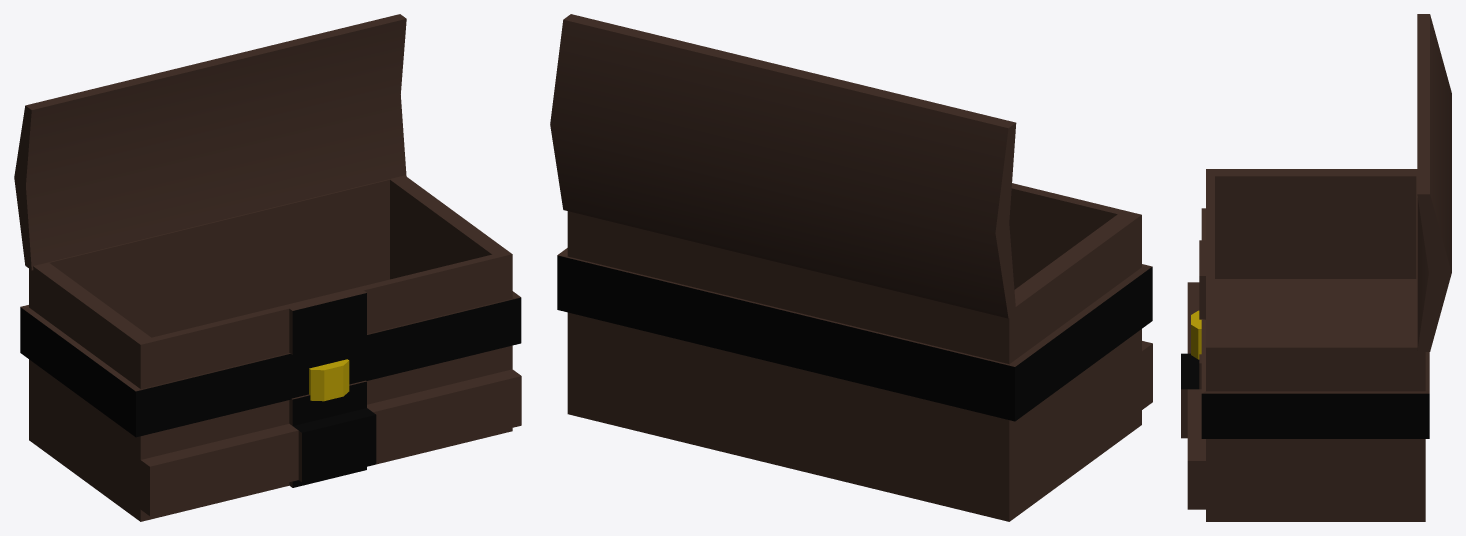
Rendered from Treasure_Chest.fbx.
3 views of the same model, side by side, from view 1: azimuth 30°, elevation 25°; view 2: azimuth 150°, elevation 25°; view 3: azimuth 270°, elevation 25° (orthographic). The views are drawn at different scales.
Visible parts, largest first — view 1: Treasure_Chest; view 2: Treasure_Chest; view 3: Treasure_Chest.
Part boxes in pixels (x1=…): Treasure_Chest: x1=14, y1=14, x2=521, y2=521; Treasure_Chest: x1=550, y1=14, x2=1152, y2=521; Treasure_Chest: x1=1181, y1=14, x2=1451, y2=521.
Size of the model in its own units: 10.03 by 8.29 by 6.19.
